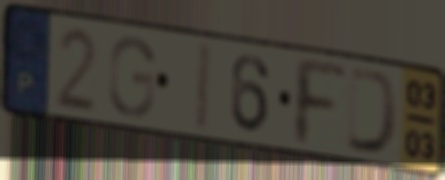2: (54, 25, 101, 116)
6: (229, 53, 272, 136)
D: (344, 63, 402, 158)
F: (290, 53, 351, 150)
G: (106, 34, 158, 121)
I: (190, 38, 215, 137)
